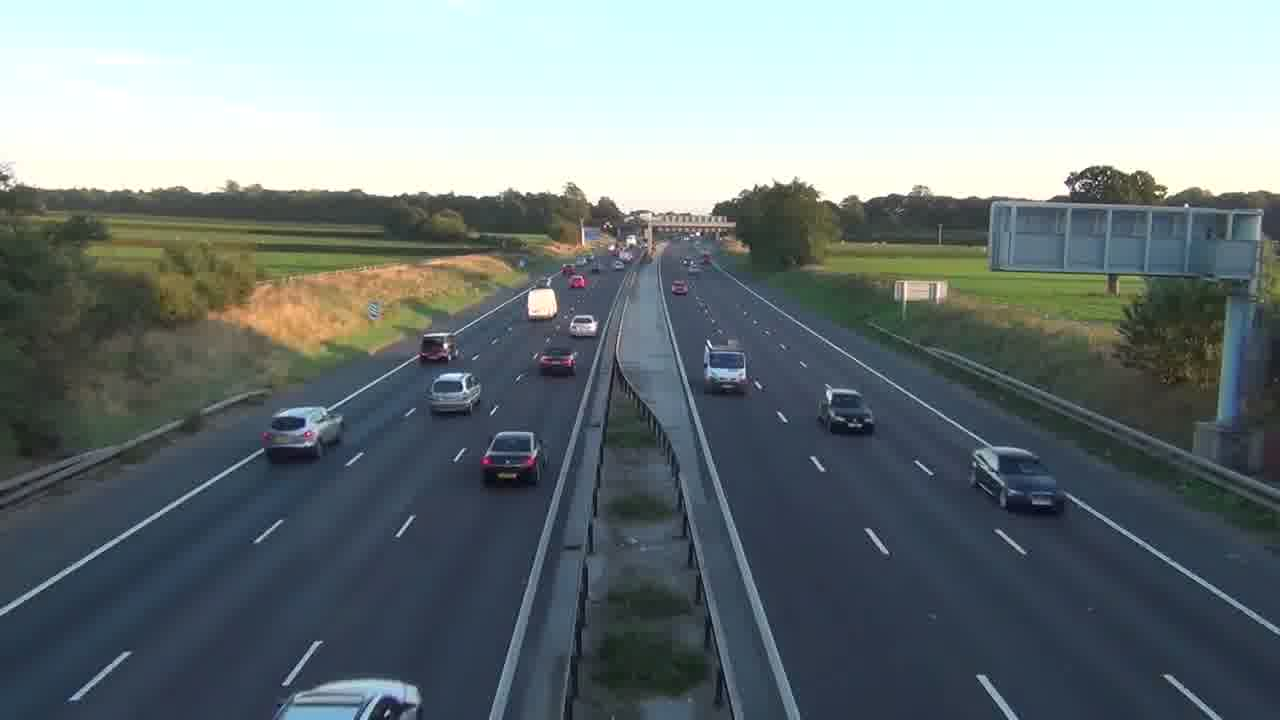car: (969, 445, 1062, 514), (274, 678, 423, 719), (817, 384, 876, 434), (426, 370, 482, 417), (533, 349, 577, 377), (568, 313, 598, 337)
truck: (703, 342, 750, 395), (526, 288, 560, 321)
